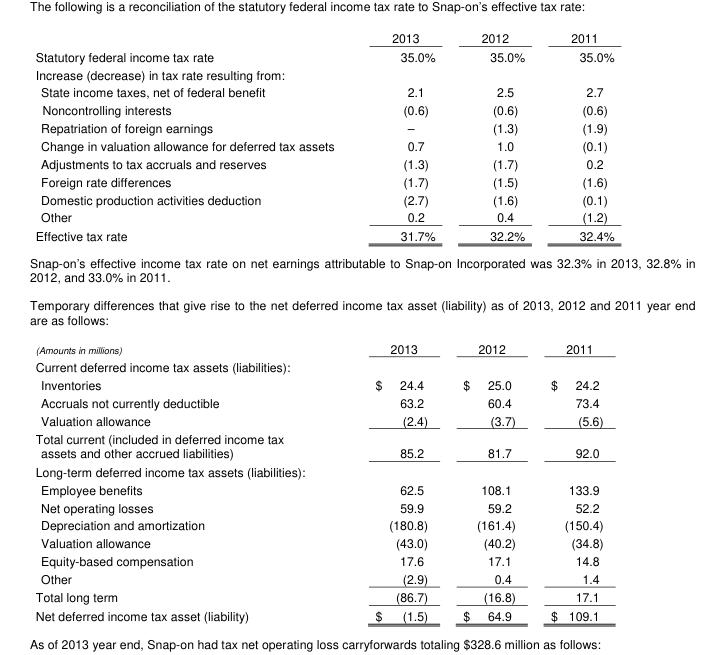table: (28, 29, 694, 623)
table column: (28, 29, 354, 623), (537, 29, 694, 623), (354, 29, 448, 623), (448, 29, 537, 623)
table column header: (28, 29, 694, 46)
table projected row header: (28, 248, 694, 333), (28, 461, 694, 480), (28, 64, 694, 82), (28, 357, 694, 375)
table row: (28, 248, 694, 333), (28, 429, 694, 461), (28, 333, 694, 357), (28, 225, 694, 248), (28, 410, 694, 429), (28, 461, 694, 480), (28, 46, 694, 64), (28, 64, 694, 82), (28, 82, 694, 100), (28, 100, 694, 118), (28, 118, 694, 136), (28, 136, 694, 154), (28, 171, 694, 189), (28, 189, 694, 207), (28, 207, 694, 225), (28, 357, 694, 375), (28, 375, 694, 393), (28, 497, 694, 515), (28, 515, 694, 533), (28, 533, 694, 551), (28, 551, 694, 569), (28, 569, 694, 587), (28, 587, 694, 605), (28, 605, 694, 623), (28, 29, 694, 46), (28, 154, 694, 171), (28, 393, 694, 410), (28, 480, 694, 497)
